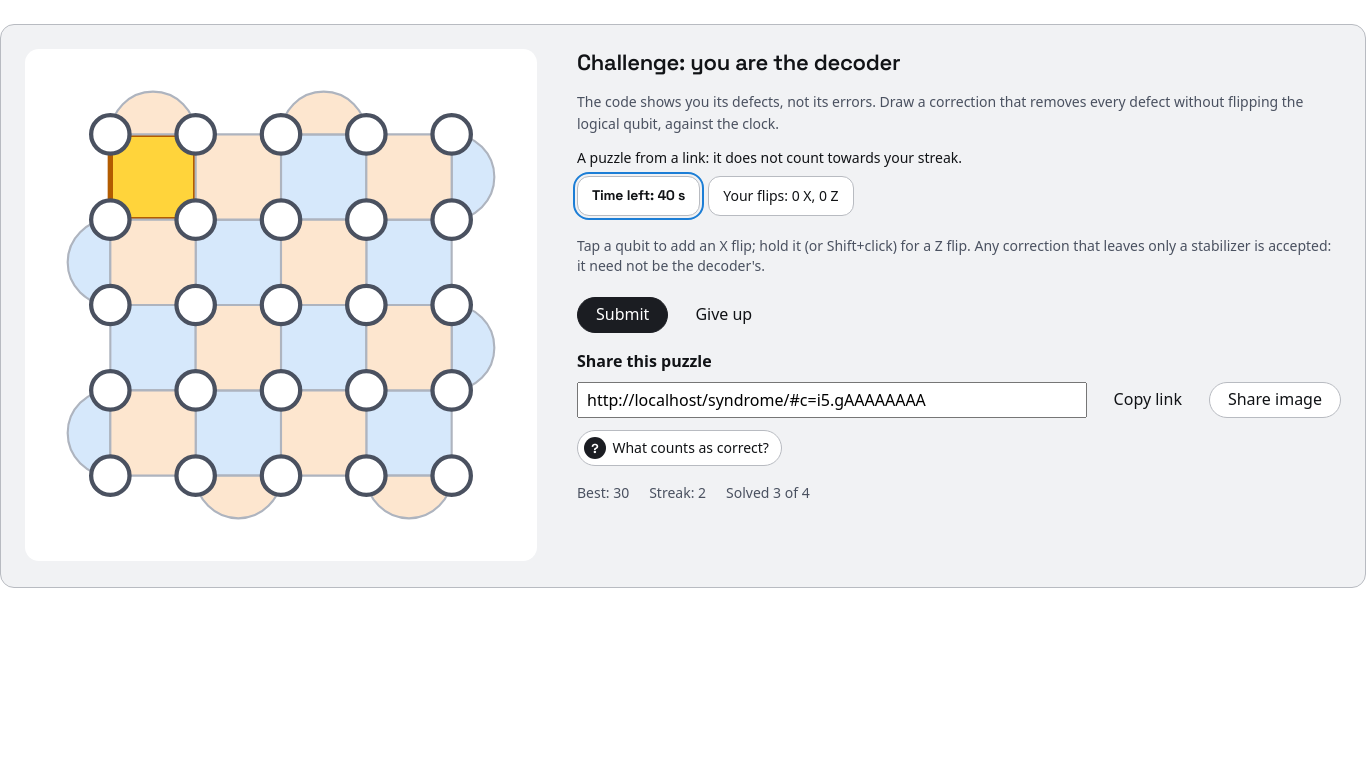
Test: ChallengePanel › opens a `#c=` link as a received puzzle that waits for Start (no clock, no flips), outside the record, and offers a new one after
Earlier steps of the test are not shown.
Click the button "Submit" at [623, 315], box [577,297,668,333]
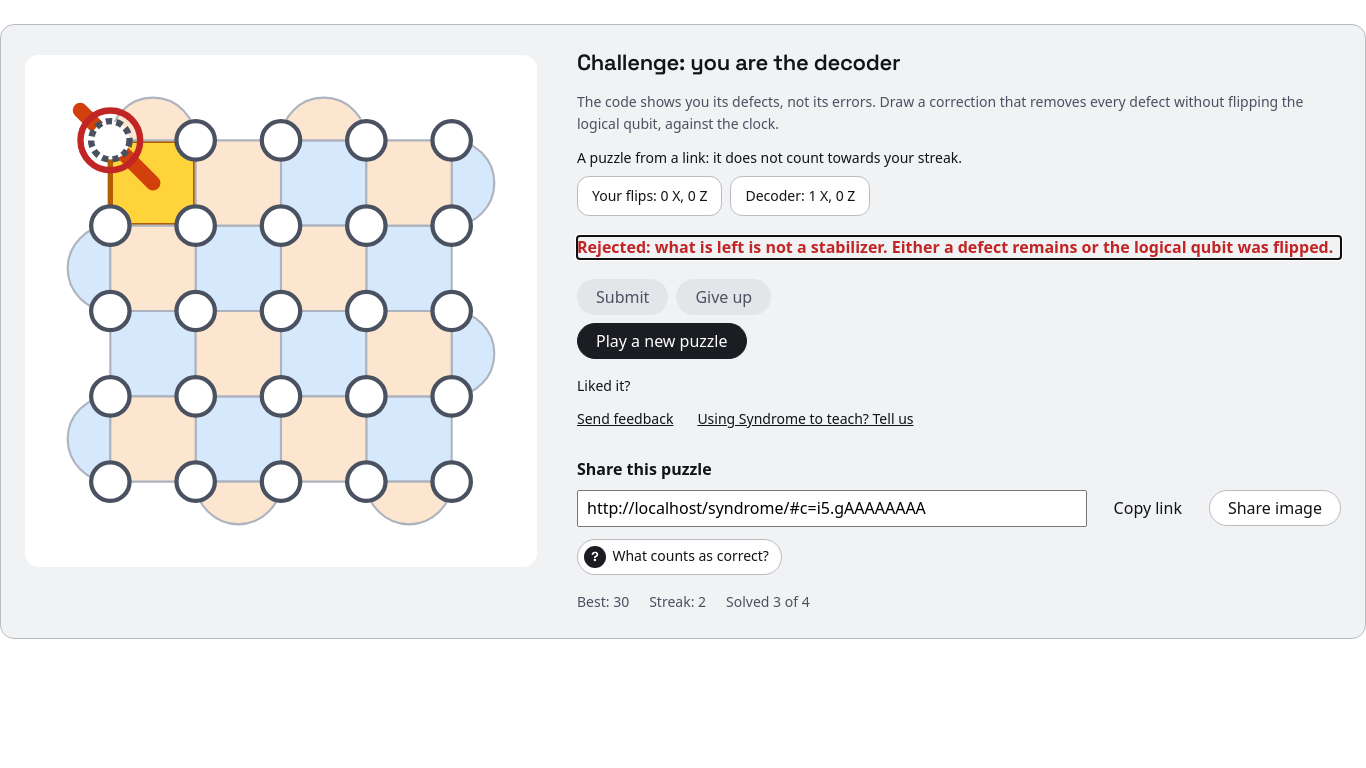
Click the button "Play a new puzzle" at [662, 341], box [577,323,746,359]
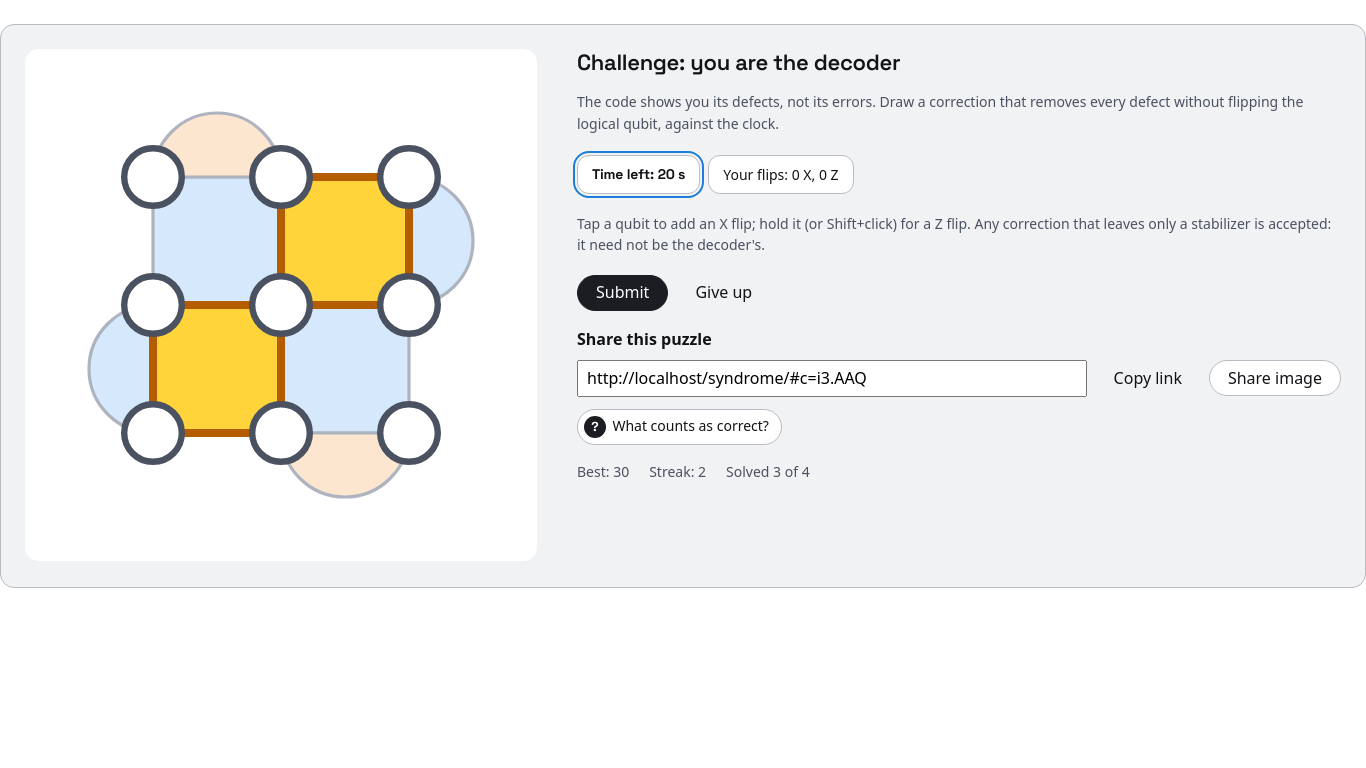
expect the element named "Z stabilizer (0, 0)Z stabilizer (0, 2)Z stabilizer (1, -1)Z" has attribute data-from-link="0": met
expect the icon named "Surface code, challenge" has attribute data-distance="3": met, box [25,49,537,561]
